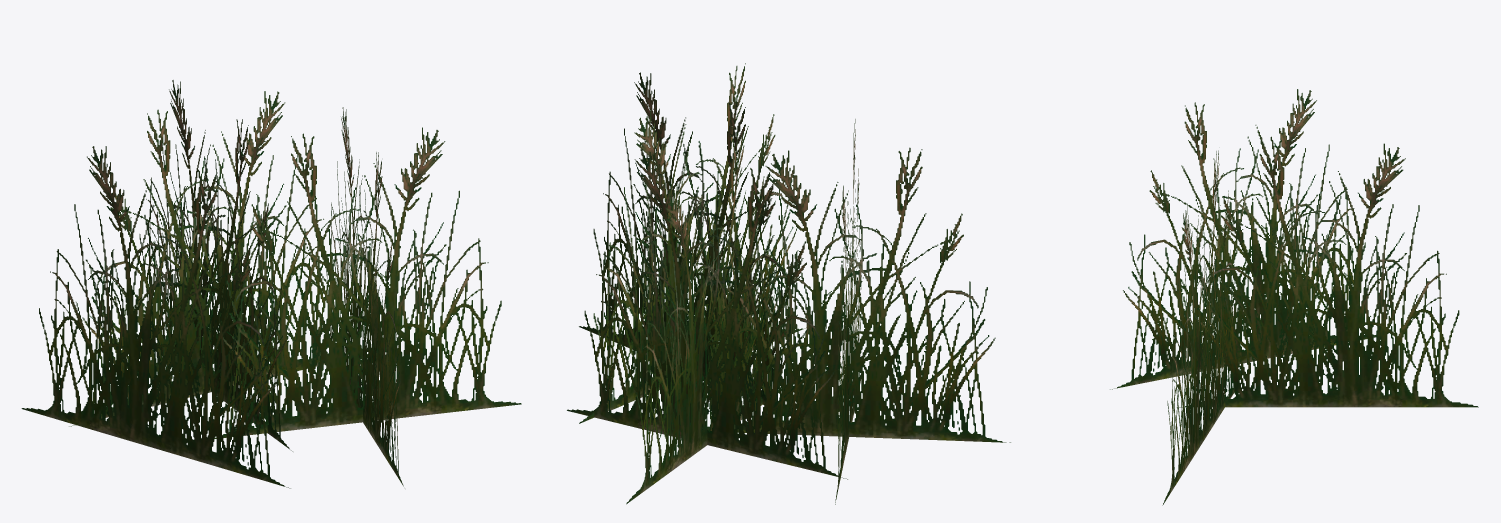
File: INST_EKH_GRASSCLUMP_PLANT.fbx
3 views of the same model, side by side, from view 1: azimuth 30°, elevation 25°; view 2: azimuth 150°, elevation 25°; view 3: azimuth 270°, elevation 25° (orthographic). The views are drawn at different scales.
Visible parts, largest first — view 1: INST_EKH_GRASSCLUMP_PLANT; view 2: INST_EKH_GRASSCLUMP_PLANT; view 3: INST_EKH_GRASSCLUMP_PLANT.
Boxes of the visible parts, x1,y1,x2,y2 form: INST_EKH_GRASSCLUMP_PLANT: (21,80,521,488); INST_EKH_GRASSCLUMP_PLANT: (567,63,1010,504); INST_EKH_GRASSCLUMP_PLANT: (1110,89,1478,505).
Bounding box in the file's own units: 10073 × 6536 × 9017.
1 material, 1 textured.
